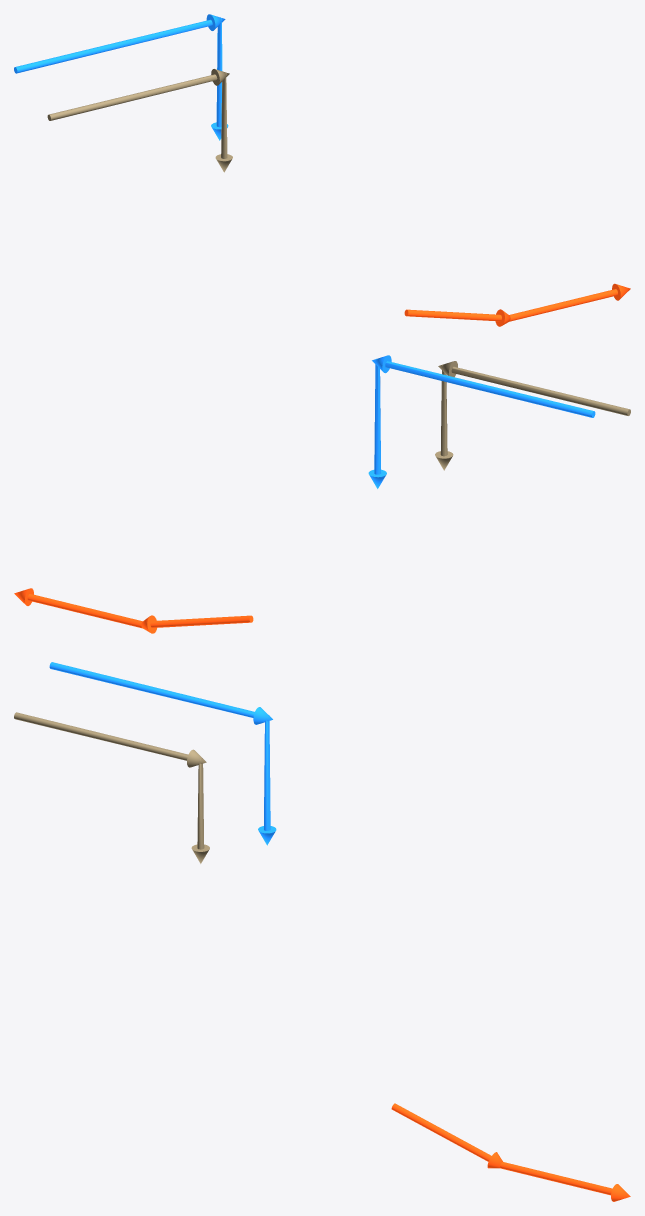
File: bauxite_slurry_mixing_tank_flow.glb
3 renders of one model, top to bottom at view 1: azimuth 30°, elevation 25°; view 2: azimuth 150°, elevation 25°; view 3: azimuth 330°, elevation 25°, orthographic. The views are drawn at different scales.
Parts seen in each view (by area): view 1: spent_liquor, slurry_in, to_digestion; view 2: spent_liquor, slurry_in, to_digestion; view 3: spent_liquor, slurry_in, to_digestion.
Boxes of the visible parts, x1=… form: spent_liquor: x1=14, y1=14, x2=228, y2=140; slurry_in: x1=47, y1=69, x2=232, y2=172; to_digestion: x1=404, y1=283, x2=630, y2=326; spent_liquor: x1=368, y1=355, x2=595, y2=488; slurry_in: x1=435, y1=361, x2=630, y2=470; to_digestion: x1=14, y1=588, x2=253, y2=633; spent_liquor: x1=49, y1=662, x2=276, y2=845; slurry_in: x1=14, y1=712, x2=209, y2=863; to_digestion: x1=391, y1=1103, x2=630, y2=1201.
Bounding box in the file's own units: 3.99 × 2.3 × 0.504.
